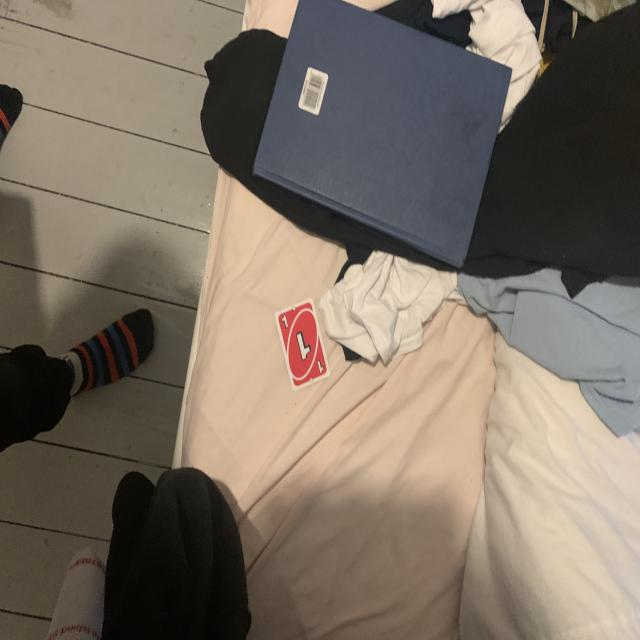lred-1: (279, 313, 290, 331)
